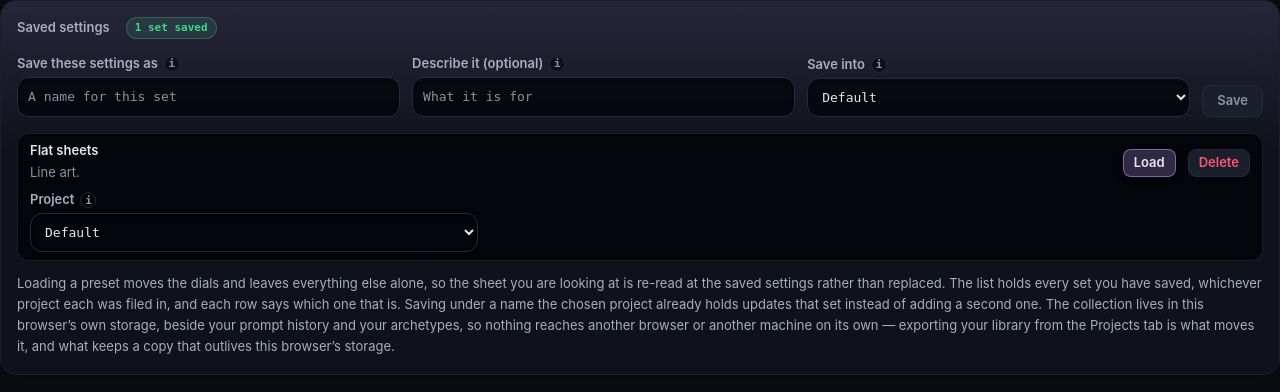
Test: QuantisePresetControls › puts the row back on Cancel, having deleted nothing
What coordinates should you click on to do the following:
click the button with aria-label "Delete the saved settings “Flat sheets”"
I would click on:
 (1219, 162)
Its box is [1188,148,1250,176].
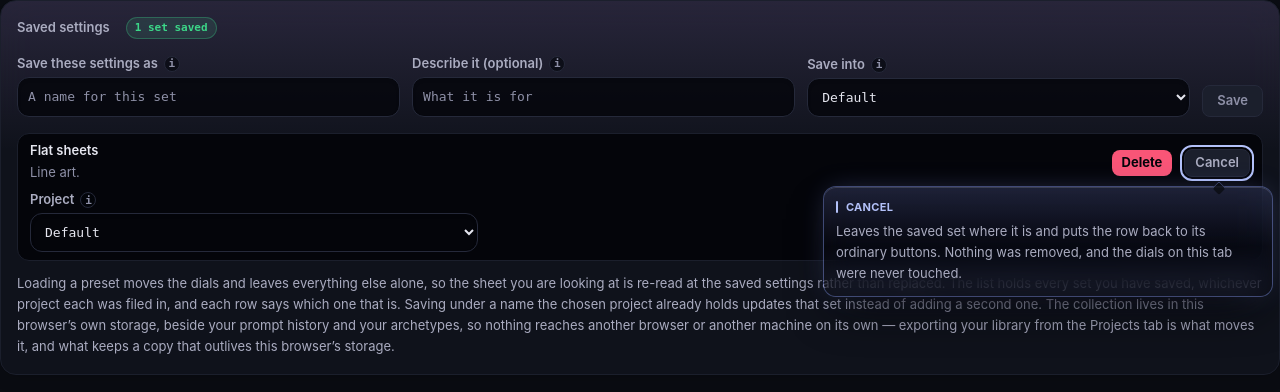
What coordinates should you click on to do the following:
click the button with aria-label "Cancel — keep the saved settings “Flat sheets”"
I would click on:
 (1217, 162)
Its box is [1184,148,1250,176].
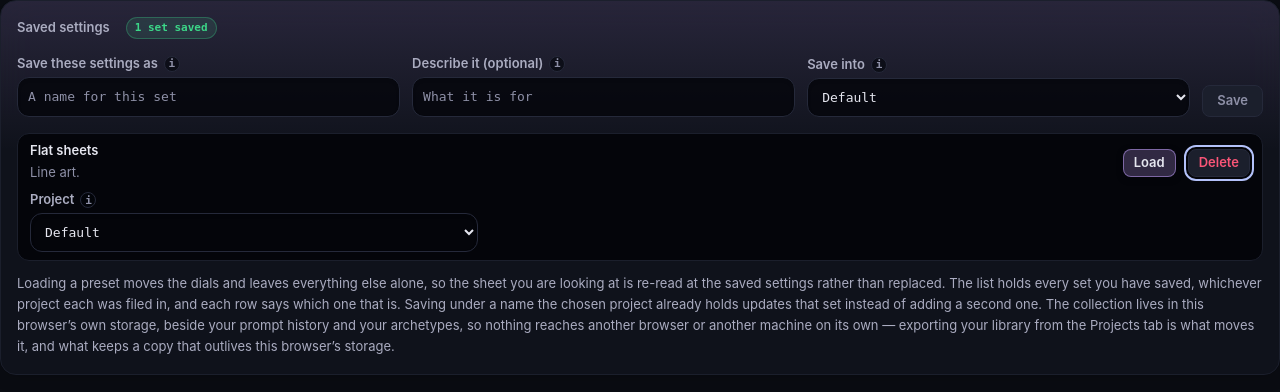
Result: the button with aria-label "Load the saved settings “Flat sheets”" is shown at [1123,148,1176,176]
